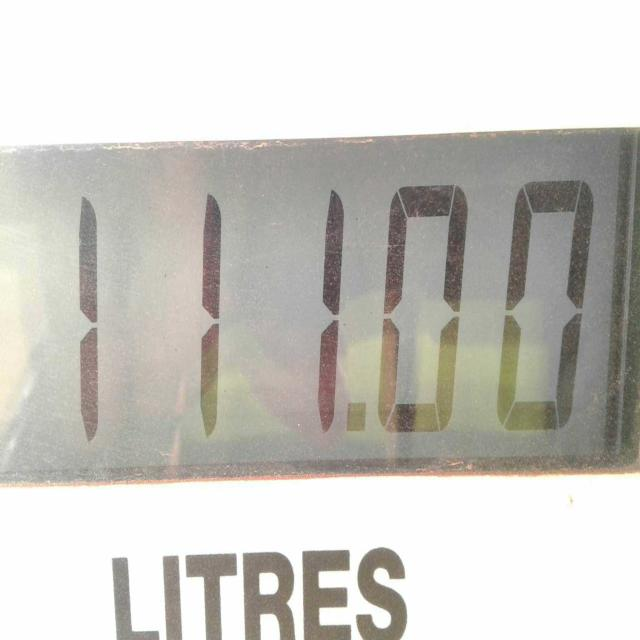.: (338, 376, 381, 474)
0: (381, 181, 488, 455), (497, 189, 587, 442), (66, 192, 130, 465)
1: (178, 198, 235, 443), (309, 184, 352, 428)
